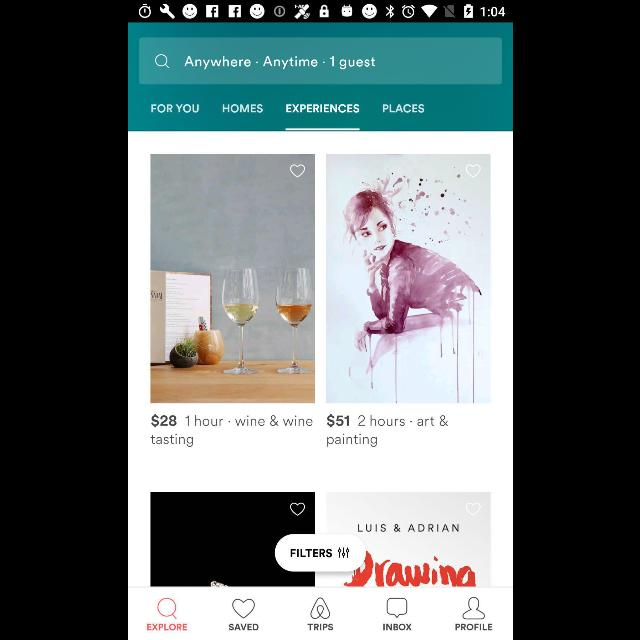icon: (462, 596, 484, 620), (310, 597, 330, 619), (232, 599, 254, 619), (157, 598, 176, 620), (386, 598, 406, 618), (154, 54, 168, 68), (290, 502, 304, 516), (466, 502, 480, 516), (466, 165, 480, 178), (290, 165, 304, 178)
image: (326, 154, 490, 403), (150, 154, 314, 403), (150, 492, 314, 586), (326, 492, 489, 586)
input: (138, 37, 502, 84)
text: (150, 414, 312, 448), (326, 414, 448, 448), (183, 56, 374, 70), (285, 105, 359, 114), (150, 105, 198, 114), (382, 105, 424, 114), (222, 105, 262, 114), (147, 623, 187, 631), (454, 623, 492, 631), (382, 623, 412, 631), (228, 623, 258, 631), (306, 623, 332, 631)
textbutton: (274, 534, 366, 572)
uppertaskbar: (128, 1, 512, 23)
